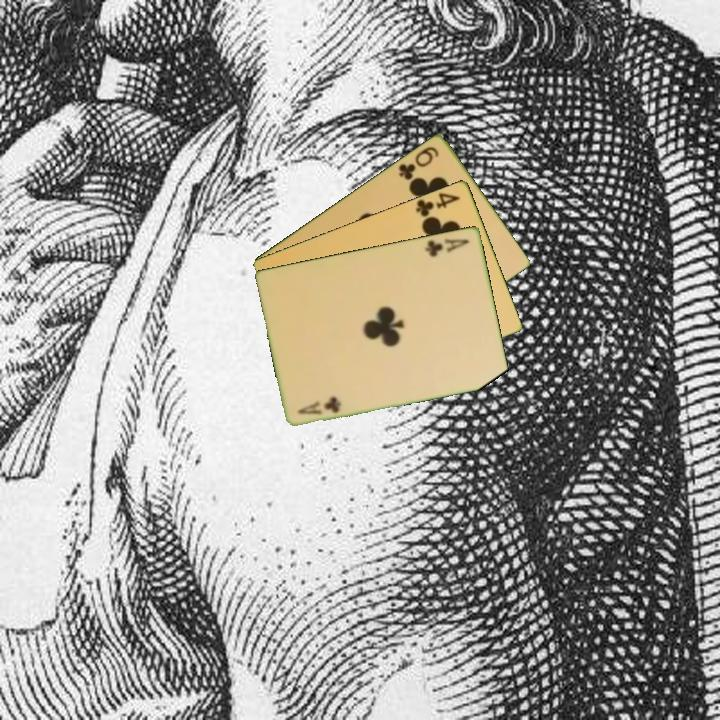4c: (412, 189, 463, 219)
6c: (395, 142, 442, 183)
Ac: (294, 392, 345, 417), (422, 234, 472, 259)
